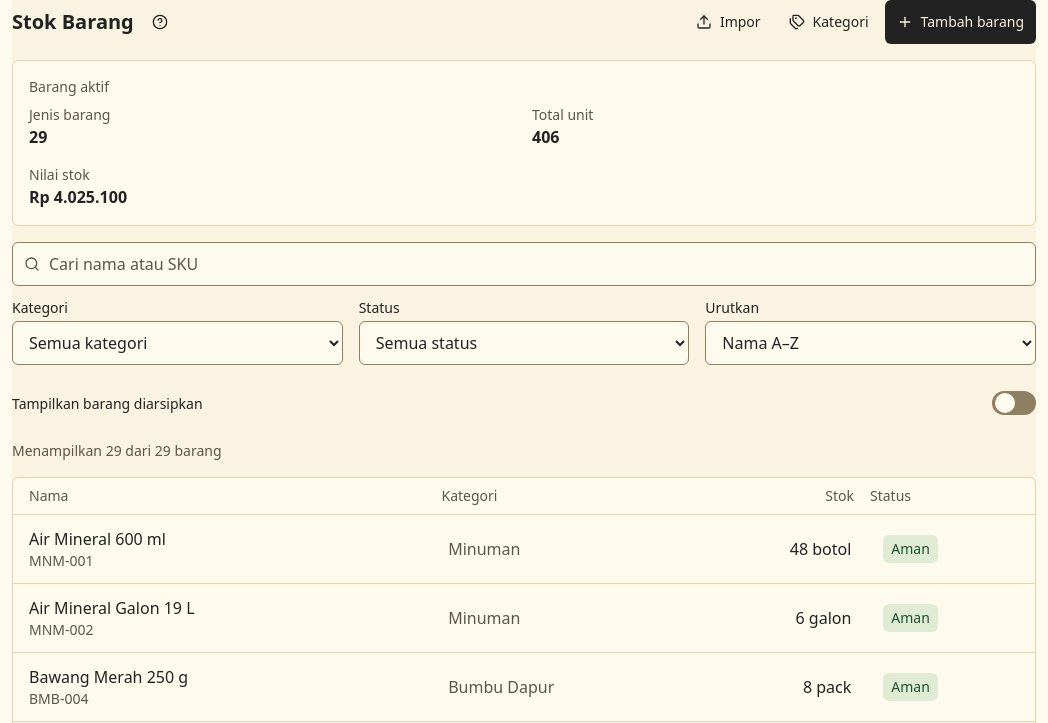
Test: filter daftar stok › desktop: switch arsip menampilkan barang diarsipkan
Expected: the text "Menampilkan 29 dari 29 barang" is shown, top-left (12, 441), bottom-right (222, 460)
Click the switch named "Tampilkan barang diarsipkan": click(1014, 403) top-left (992, 391), bottom-right (1036, 415)
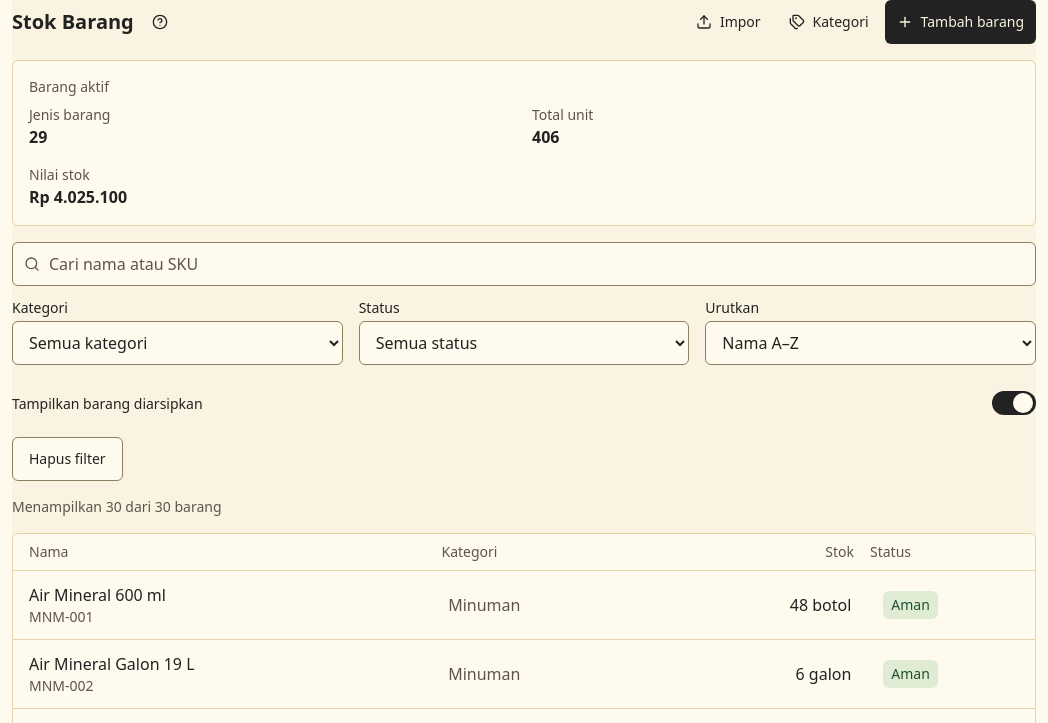
Expected: the text "Menampilkan 30 dari 30 barang" is shown, top-left (12, 497), bottom-right (222, 516)
